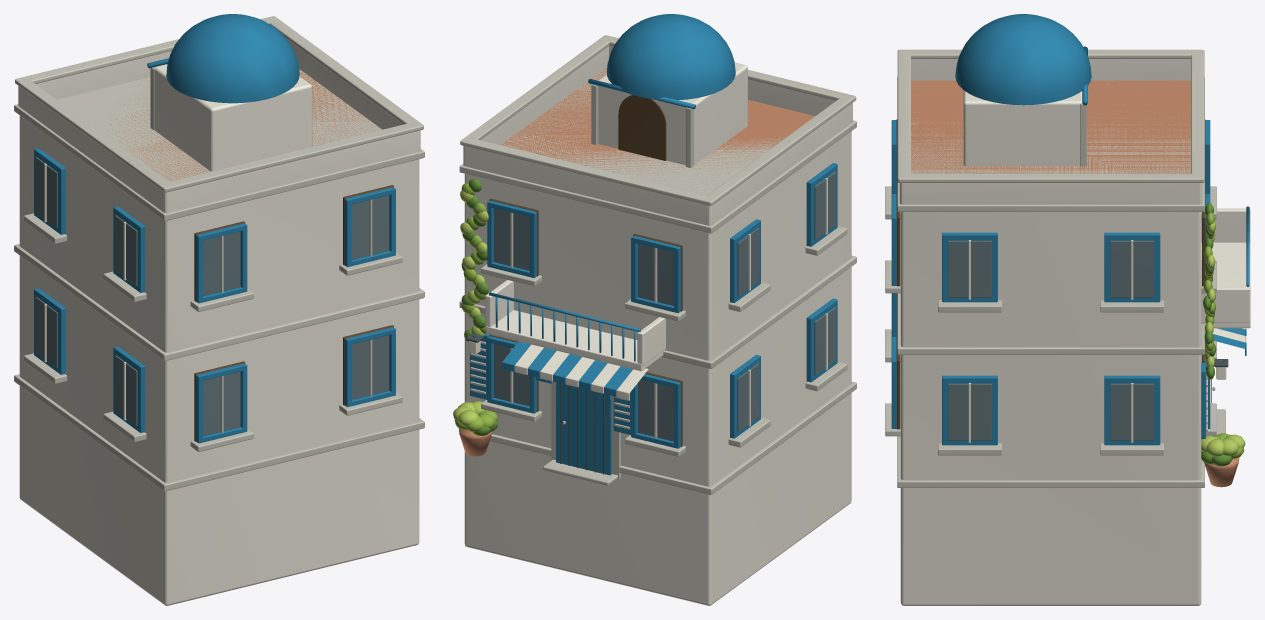
File: town_house_2_2.glb
3 renders of one model, left to right at view 1: azimuth 30°, elevation 25°; view 2: azimuth 150°, elevation 25°; view 3: azimuth 270°, elevation 25°, orthographic. The views are drawn at different scales.
Visible parts, largest first — view 1: TownHouse2_2_Geometry; view 2: TownHouse2_2_Geometry; view 3: TownHouse2_2_Geometry.
Part boxes in pixels (x1=…): TownHouse2_2_Geometry: x1=14, y1=14, x2=424, y2=605; TownHouse2_2_Geometry: x1=453, y1=14, x2=856, y2=605; TownHouse2_2_Geometry: x1=885, y1=14, x2=1250, y2=605.
Size of the model in its own units: 6.62 by 11.51 by 7.29.
